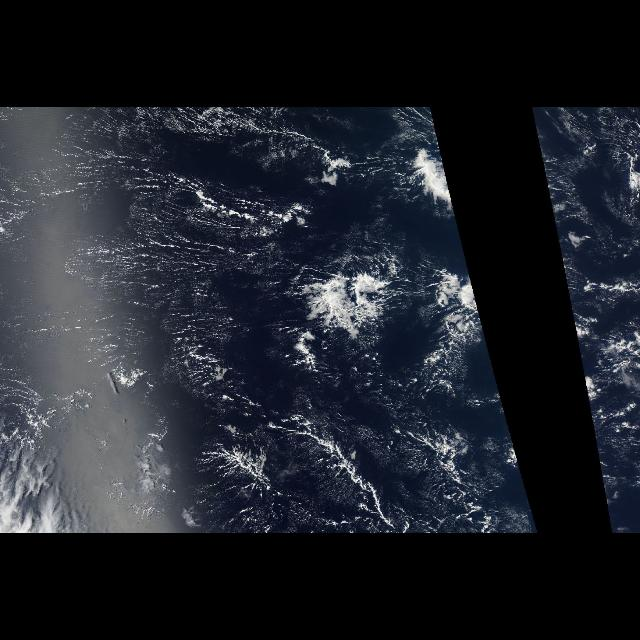Gravel: (1, 107, 492, 533)
Sugar: (8, 113, 288, 394)
